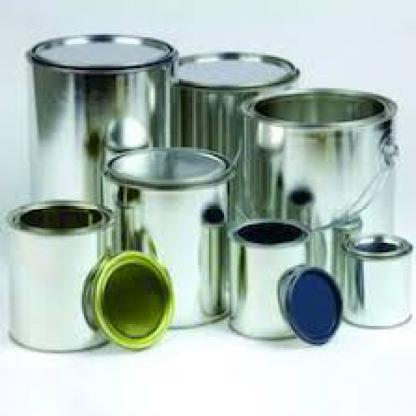Compsot: (237, 88, 397, 291), (28, 33, 175, 214), (99, 144, 229, 328), (170, 50, 298, 226), (6, 199, 112, 353), (78, 246, 170, 350), (226, 219, 300, 339), (338, 230, 414, 328), (276, 265, 340, 341)
